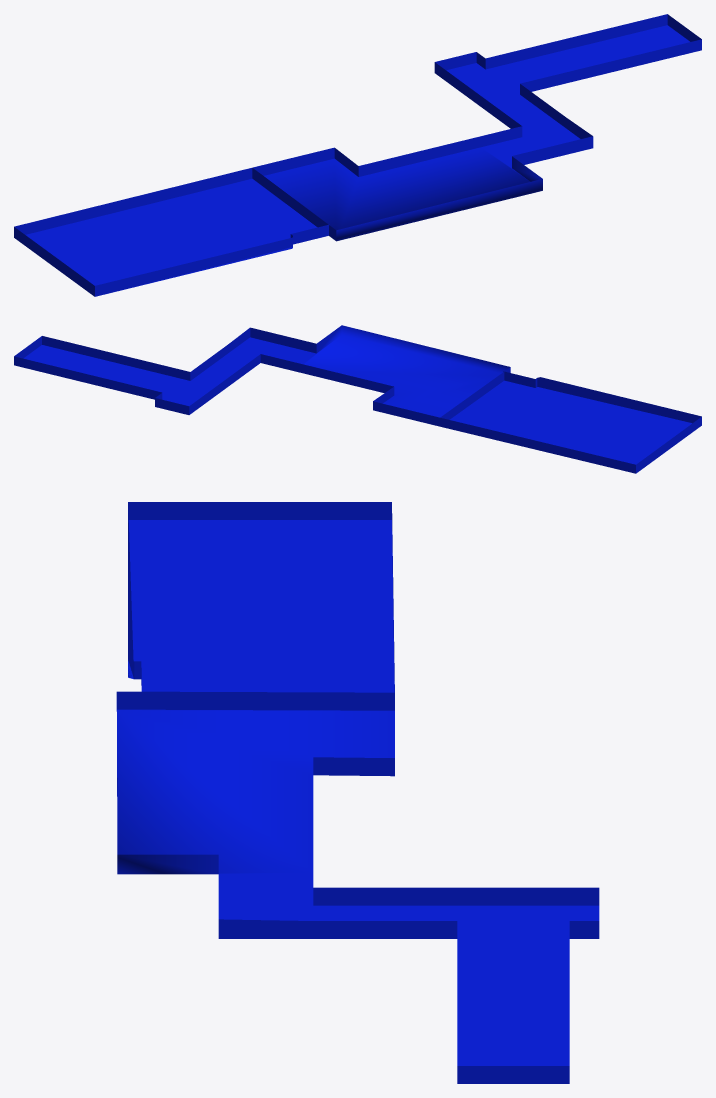
Rendered from Katto_1krs_AlimmainenTaso.fbx.
The picture shows the model from 3 angles, top to bottom: view 1: azimuth 30°, elevation 25°; view 2: azimuth 150°, elevation 25°; view 3: azimuth 270°, elevation 25°; orthographic projection. The views are drawn at different scales.
Visible parts, largest first — view 1: AlakerranKatonAlimmainenPAla; view 2: AlakerranKatonAlimmainenPAla; view 3: AlakerranKatonAlimmainenPAla.
Part boxes in pixels (bbox=[...]): AlakerranKatonAlimmainenPAla: bbox=[14, 14, 701, 296]; AlakerranKatonAlimmainenPAla: bbox=[14, 325, 701, 473]; AlakerranKatonAlimmainenPAla: bbox=[116, 502, 599, 1083].
Bounding box in the file's own units: 4490 × 72.97 × 1623.
